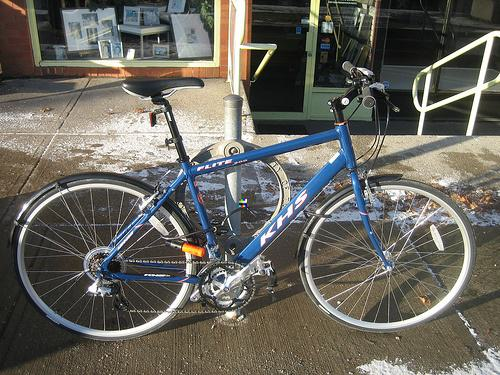car: (8, 62, 479, 345)
